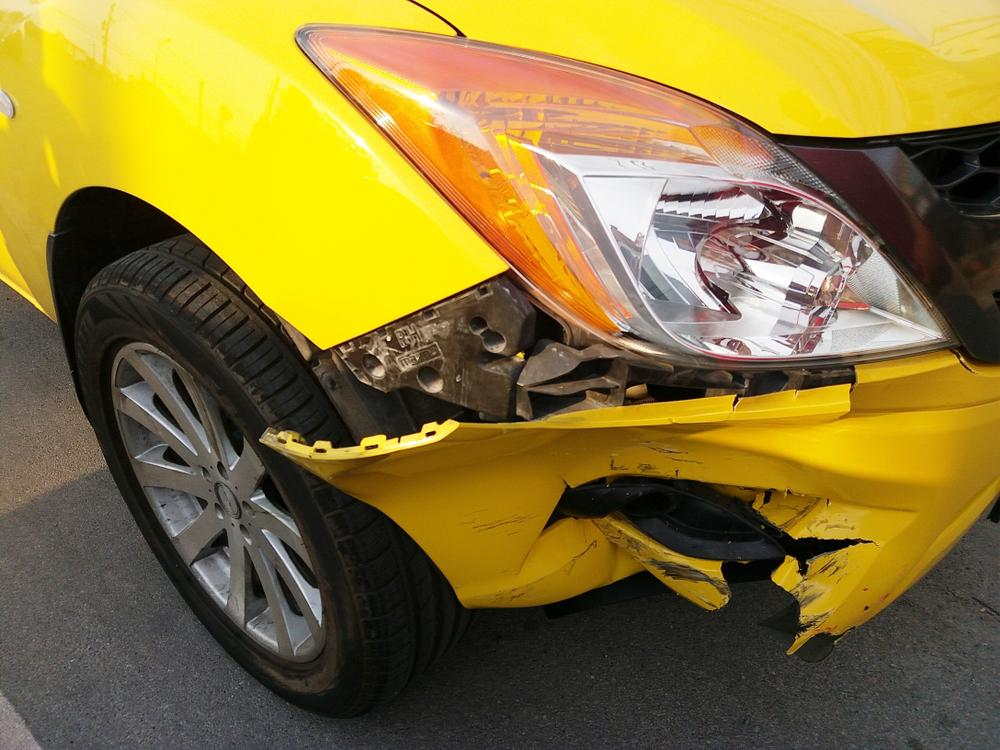crack: (715, 558, 802, 655), (788, 536, 875, 583), (828, 366, 860, 422), (946, 348, 980, 375), (730, 395, 743, 417)
dent: (305, 429, 926, 635)
scratch: (645, 558, 725, 598)
